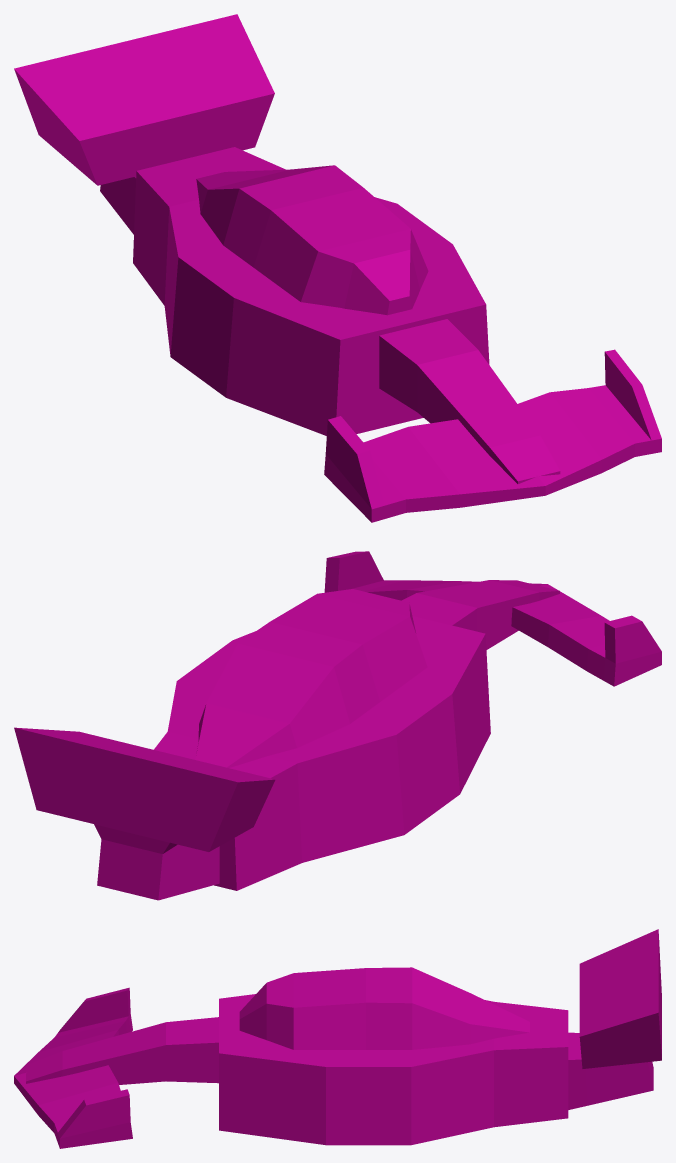
The model's file is SM_Veh_OpenWheeler_01_Preset_01_Collision.fbx.
The picture shows the model from 3 angles, top to bottom: view 1: azimuth 30°, elevation 25°; view 2: azimuth 150°, elevation 25°; view 3: azimuth 270°, elevation 25°; orthographic projection. The views are drawn at different scales.
Parts seen in each view (by area): view 1: SM_Veh_OpenWheeler_01_Preset_01_Collision; view 2: SM_Veh_OpenWheeler_01_Preset_01_Collision; view 3: SM_Veh_OpenWheeler_01_Preset_01_Collision.
Part boxes in pixels (x1=…): SM_Veh_OpenWheeler_01_Preset_01_Collision: x1=14, y1=14, x2=661, y2=522; SM_Veh_OpenWheeler_01_Preset_01_Collision: x1=14, y1=551, x2=661, y2=900; SM_Veh_OpenWheeler_01_Preset_01_Collision: x1=14, y1=929, x2=661, y2=1148.
Bounding box in the file's own units: 280 × 156 × 706.
